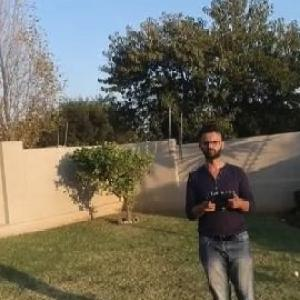follow: (179, 117, 261, 299)
